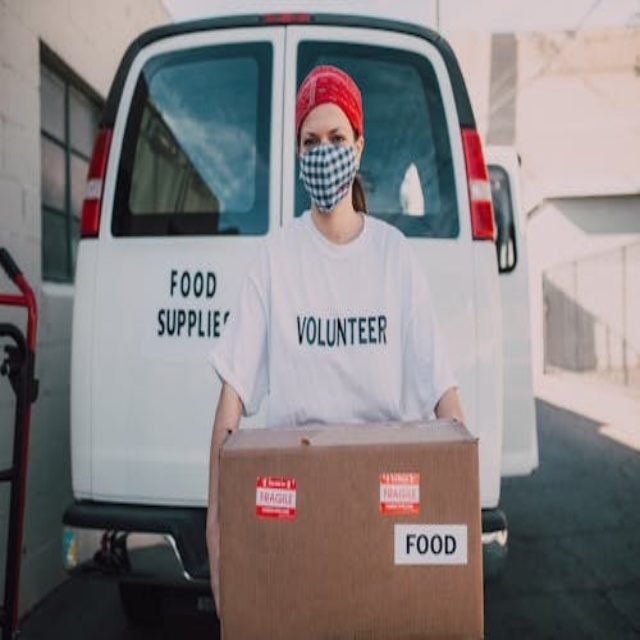Mascara: (298, 141, 358, 212)
Sin_gafas: (301, 131, 352, 150)
